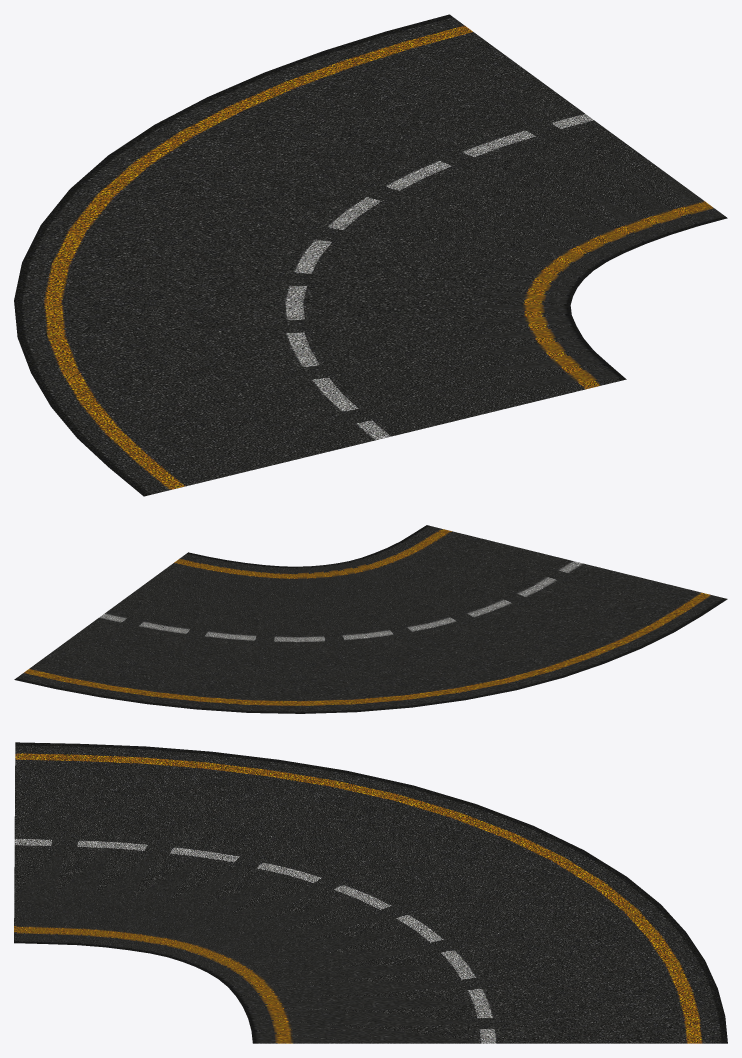
Rendered from turn.fbx.
3 views of the same model, one above another, from view 1: azimuth 30°, elevation 25°; view 2: azimuth 150°, elevation 25°; view 3: azimuth 270°, elevation 25° (orthographic). The views are drawn at different scales.
Parts seen in each view (by area): view 1: turn; view 2: turn; view 3: turn.
Boxes of the visible parts, x1,y1,x2,y2 form: turn: [14, 14, 727, 496]; turn: [14, 525, 727, 713]; turn: [14, 742, 727, 1043].
Bounding box in the file's own units: 150 × 3.72e-05 × 150.
1 material, 1 textured.
